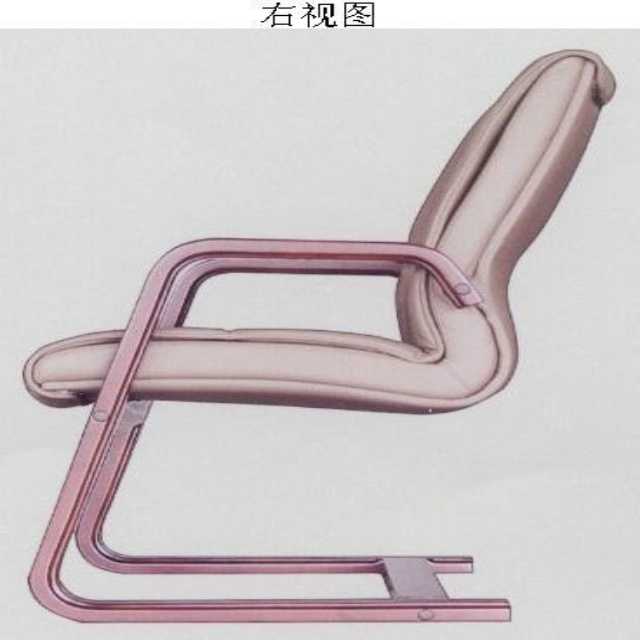obstacle: (24, 50, 614, 621)
